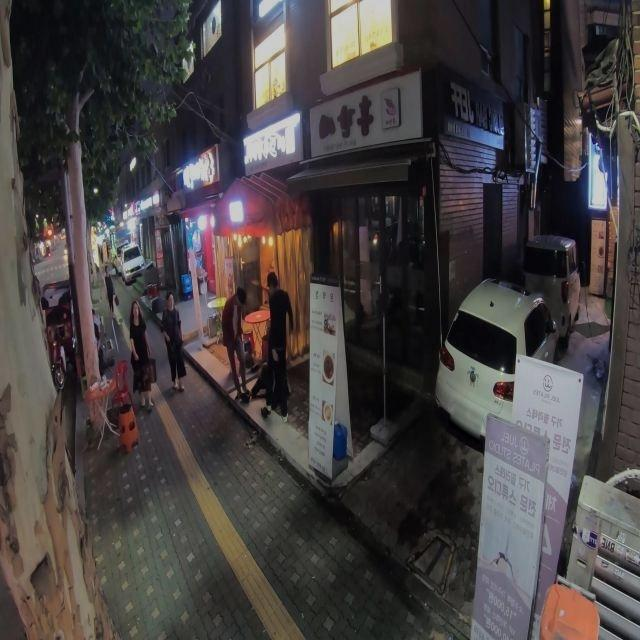non-fight: (253, 271, 295, 422), (220, 286, 255, 398), (128, 302, 158, 408), (161, 292, 187, 392)
